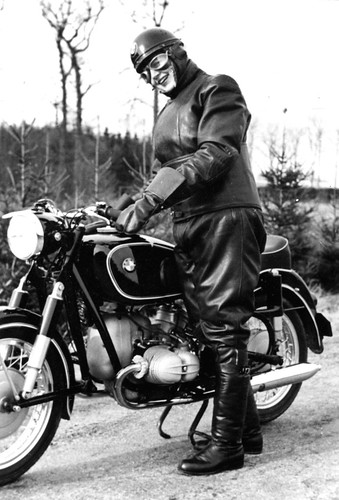helmet: (116, 17, 180, 62)
